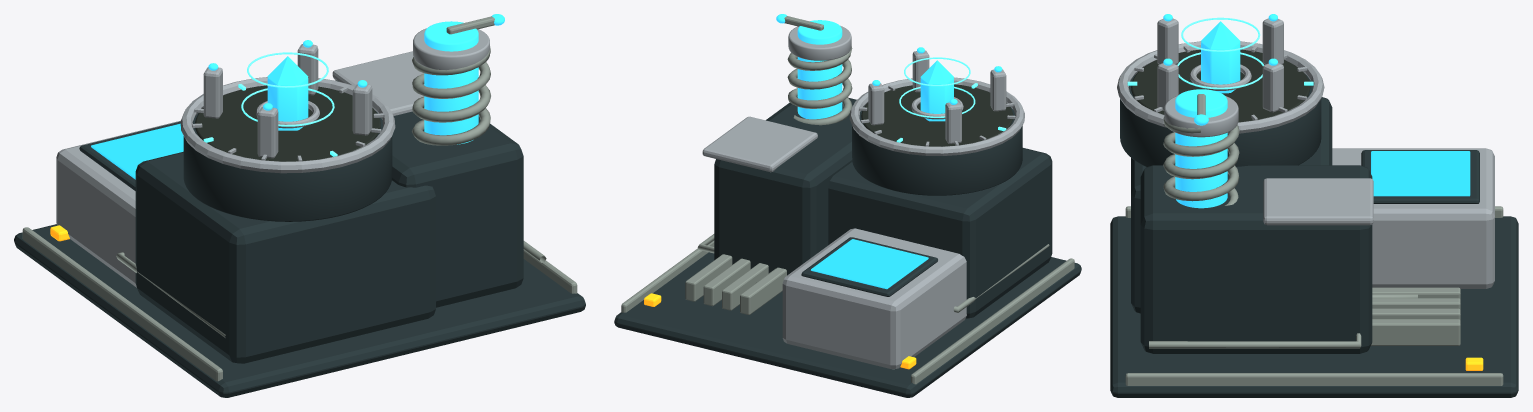
File: battlecity-research-center.glb
The picture shows the model from 3 angles, left to right: view 1: azimuth 30°, elevation 25°; view 2: azimuth 150°, elevation 25°; view 3: azimuth 270°, elevation 25°; orthographic projection. The views are drawn at different scales.
Visible parts, largest first — view 1: DX dark machinery, DX chrome, Brushed steel, Track rubber, Research reactor glow, Research display glow, Research reactor glow Research levitating specimen, Command glow; view 2: DX dark machinery, DX chrome, Brushed steel, Track rubber, Research display glow, Research reactor glow, Research reactor glow Research levitating specimen, Command glow; view 3: DX dark machinery, DX chrome, Brushed steel, Research display glow, Track rubber, Research reactor glow, Research reactor glow Research levitating specimen, Command glow.
Boxes of the visible parts, left/top/right/bottom form: DX dark machinery: left=14, top=80, right=585, bottom=397; DX chrome: left=56, top=28, right=489, bottom=287; Brushed steel: left=22, top=46, right=577, bottom=381; Track rubber: left=195, top=85, right=380, bottom=161; Research reactor glow: left=208, top=21, right=478, bottom=144; Research display glow: left=91, top=123, right=183, bottom=179; Research reactor glow Research levitating specimen: left=267, top=56, right=308, bottom=130; Command glow: left=203, top=52, right=337, bottom=156; DX dark machinery: left=614, top=97, right=1081, bottom=397; DX chrome: left=702, top=26, right=1024, bottom=369; Brushed steel: left=621, top=47, right=1074, bottom=384; Track rubber: left=861, top=84, right=1013, bottom=146; Research display glow: left=811, top=239, right=928, bottom=289; Research reactor glow: left=797, top=20, right=1002, bottom=119; Research reactor glow Research levitating specimen: left=920, top=60, right=953, bottom=121; Command glow: left=896, top=57, right=1006, bottom=142; DX dark machinery: left=1110, top=73, right=1518, bottom=397; DX chrome: left=1117, top=18, right=1494, bottom=288; Brushed steel: left=1125, top=117, right=1503, bottom=385; Research display glow: left=1371, top=151, right=1470, bottom=196; Track rubber: left=1131, top=49, right=1310, bottom=122; Research reactor glow: left=1163, top=14, right=1277, bottom=208; Research reactor glow Research levitating specimen: left=1201, top=21, right=1240, bottom=93; Command glow: left=1127, top=17, right=1313, bottom=89.
Size of the model in its own units: 2.96 by 2.12 by 2.96.
